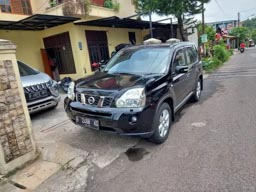plat: (78, 115, 100, 131)
